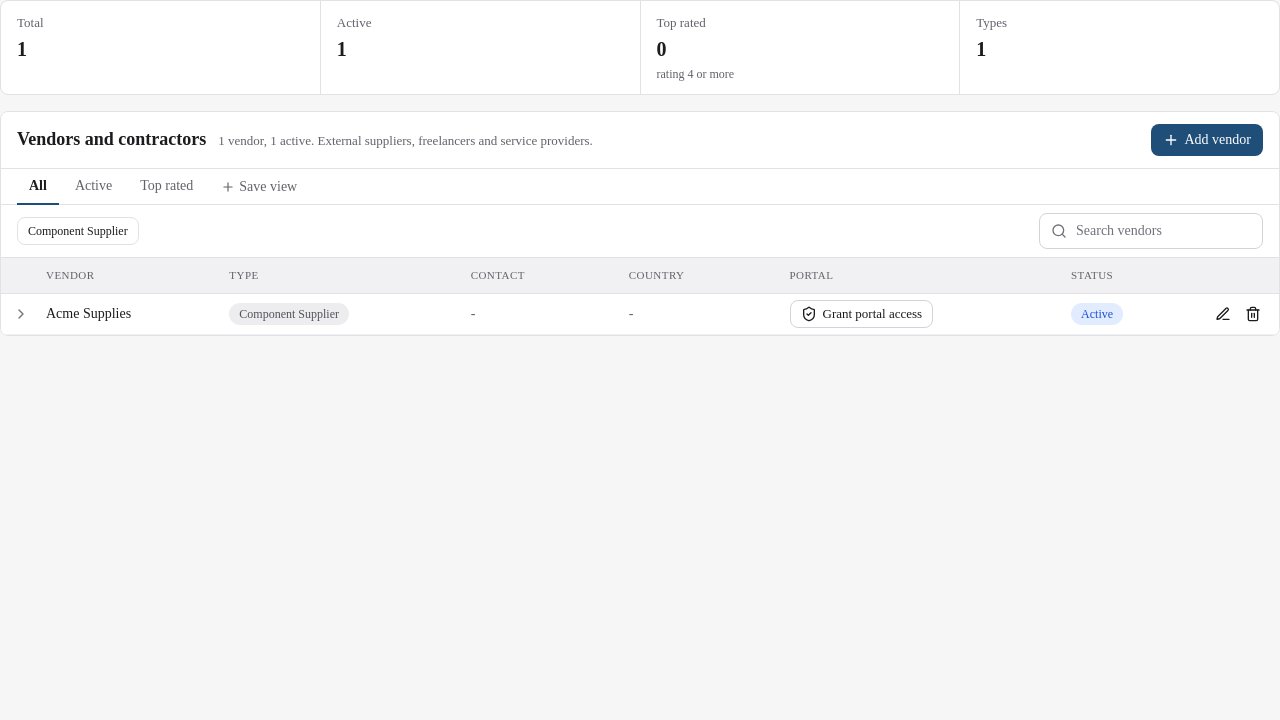
Scenario: vendors: documents in the expanded row (batch E) › lists a vendor's documents for vendor managers only
Earlier steps of the test are not shown.
Click the text "Acme Supplies". click: [89, 314]
box: [46,304,131,324]
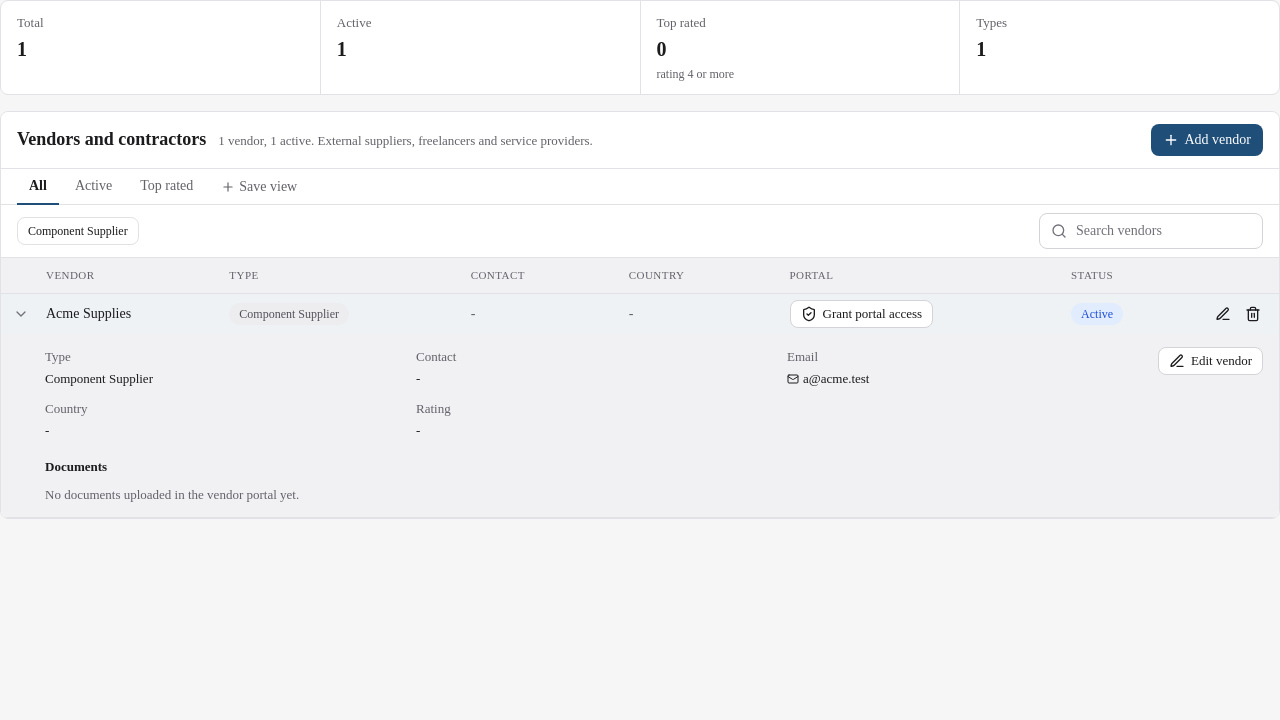
Check: the element named "Vendor documents" is shown, box [45,458,299,502]
